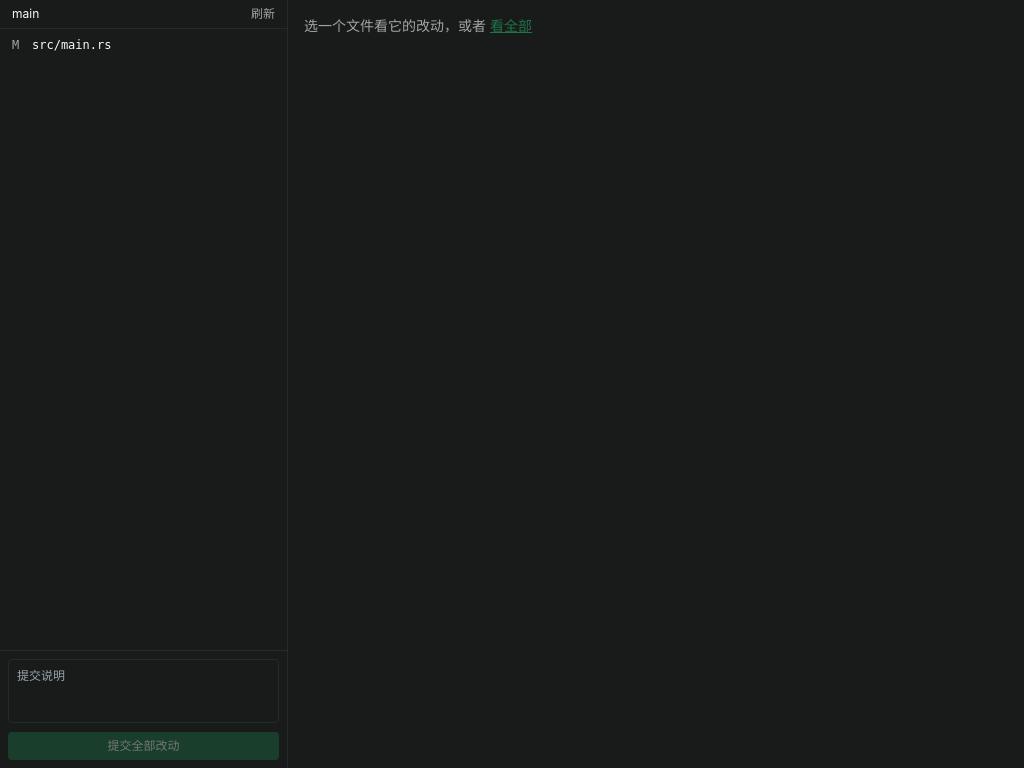
Test case: the changes panel › refuses to commit without a message
Expected: the text "src/main.rs" is shown, [32,37,112,53]
Expected: the button "提交全部改动" is disabled, [8,732,279,760]
In the text box labelled "提交说明": [144, 690] box [8,658,279,722], type "修好了那个 bug"
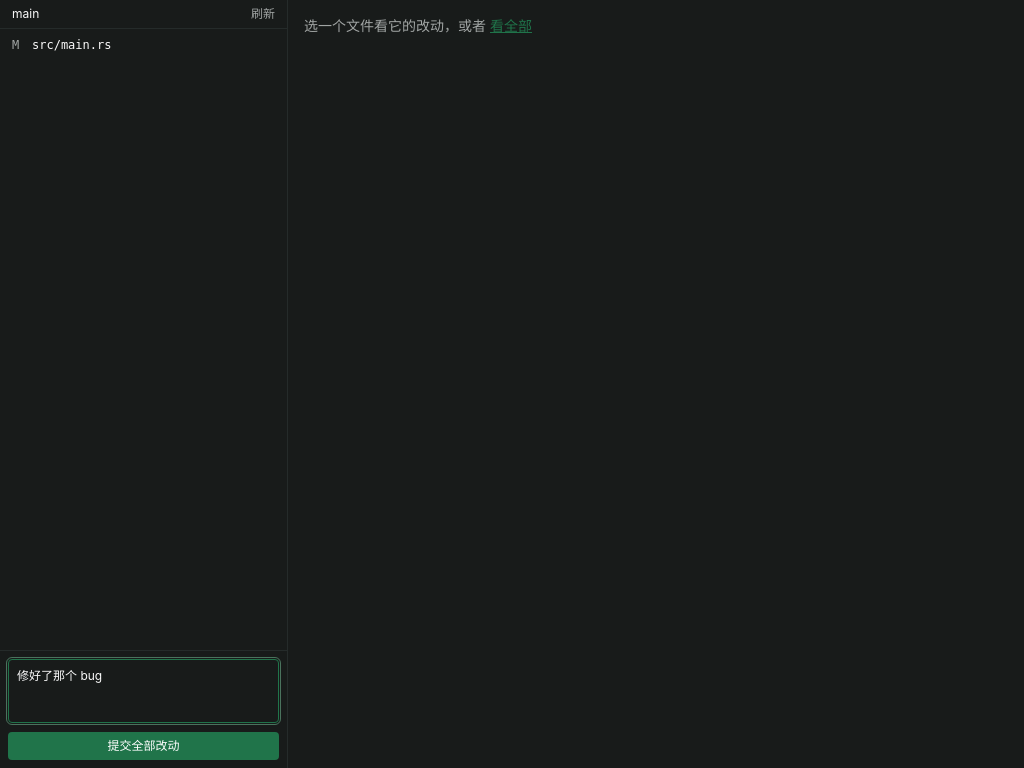
Result: the button "提交全部改动" is enabled at [8,732,279,760]
